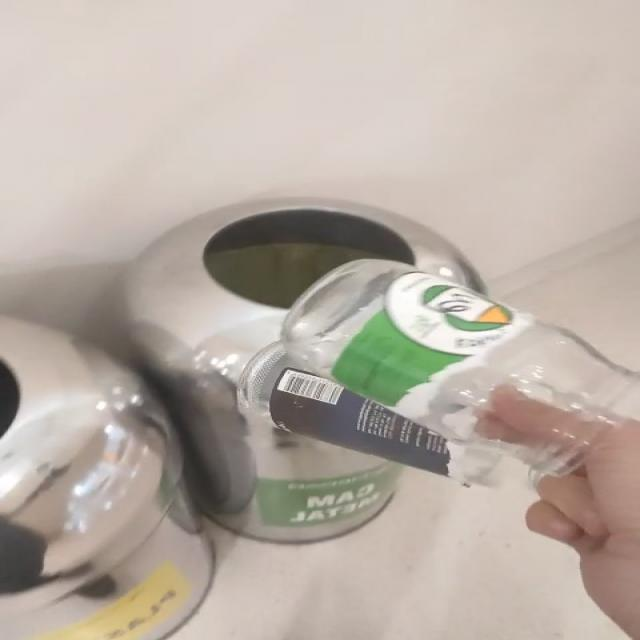glass: (271, 260, 637, 475)
